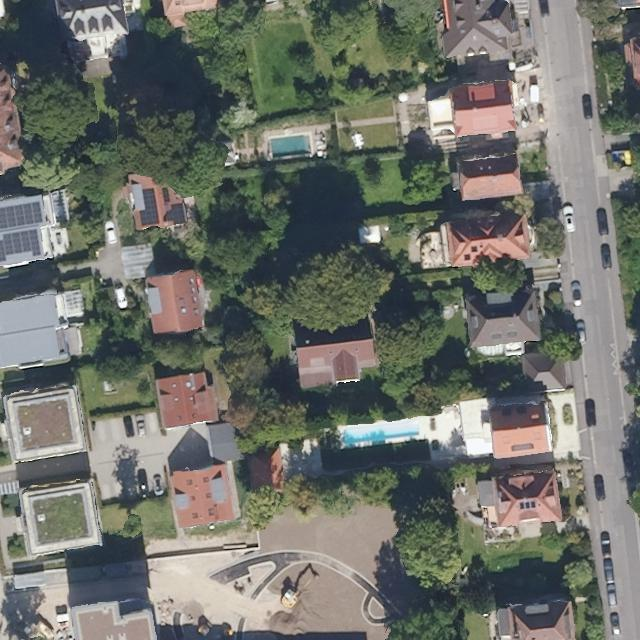PV: (0, 227, 42, 263), (0, 201, 44, 230), (139, 187, 161, 227), (162, 203, 187, 227), (162, 187, 170, 204), (520, 500, 534, 509)
